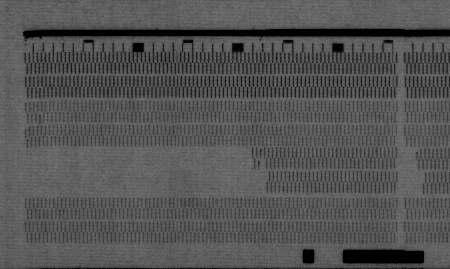Broken hole: (20, 146, 272, 202), (401, 144, 428, 196)
Oblique printing: (35, 111, 45, 125)
